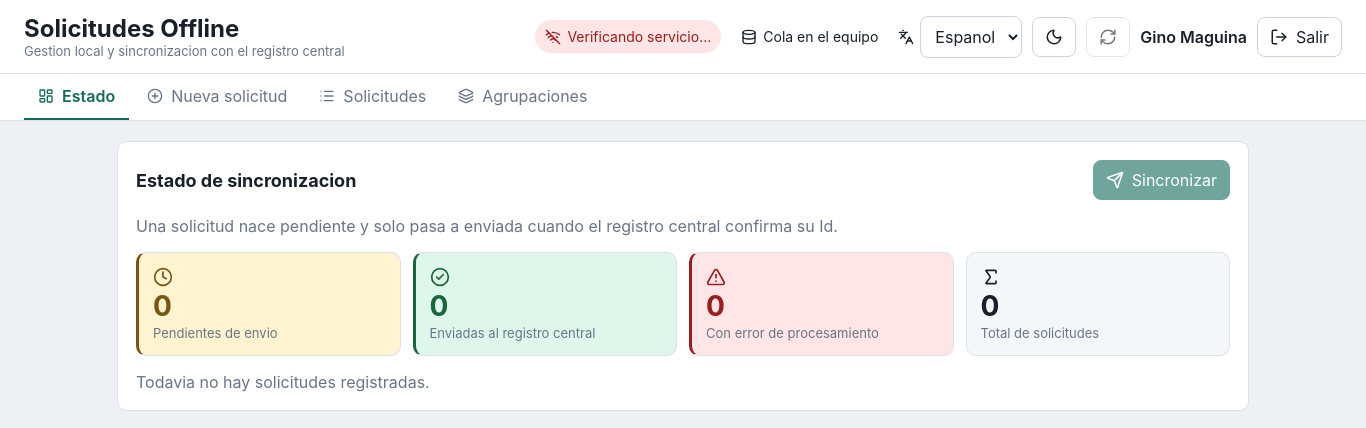
Scenario: preferences › translates the interface and remembers the choice
This screenshot has width=1366, height=428.
Check: the heading "Estado de sincronizacion" is shown, box [136,170,356,190]
Select "English" in the dropdown named "Idioma": x=971, y=36 [920,16,1022,58]
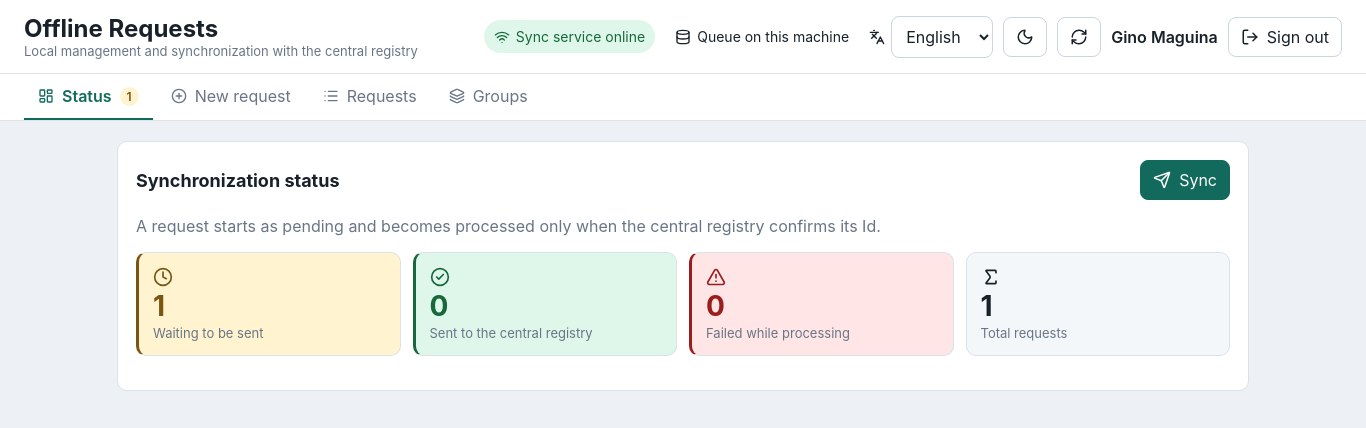
Check: the heading "Synchronization status" is shown, box [136,170,340,190]
